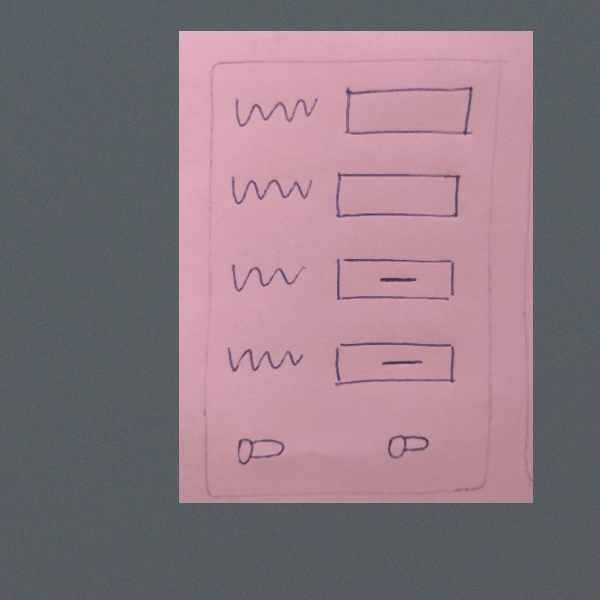button: (330, 337, 461, 393), (333, 252, 460, 308)
switch: (378, 426, 439, 466), (229, 430, 289, 470)
text: (222, 252, 314, 298), (227, 88, 320, 133), (225, 166, 318, 211), (221, 337, 314, 382)
text_input: (340, 83, 477, 146), (331, 163, 468, 226)
